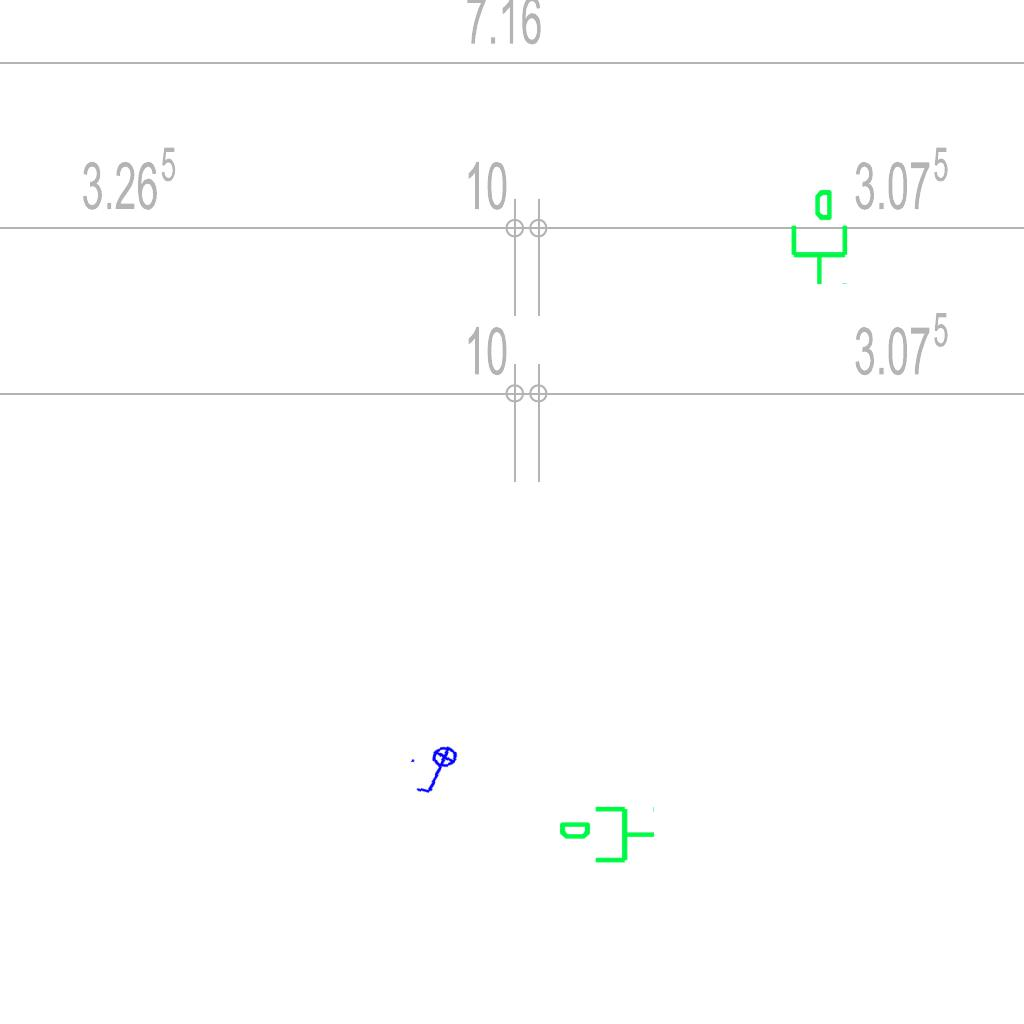Ausschalter_beleuchtet: (406, 743, 470, 799)
Datenanschluss_einfach: (783, 187, 852, 287), (557, 802, 657, 871)
